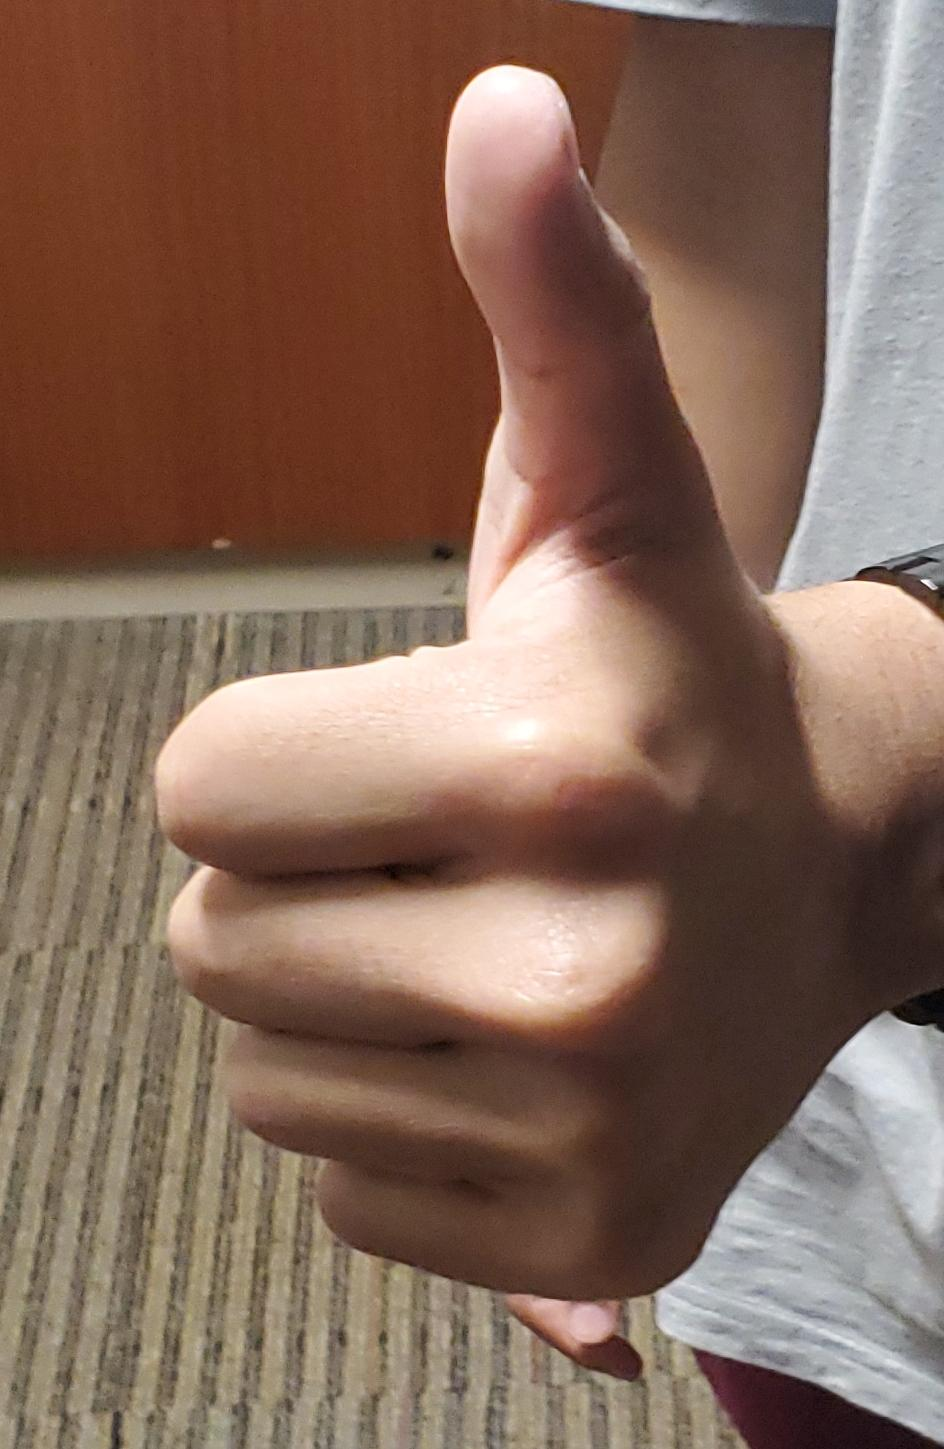up: (0, 1, 944, 1449)
